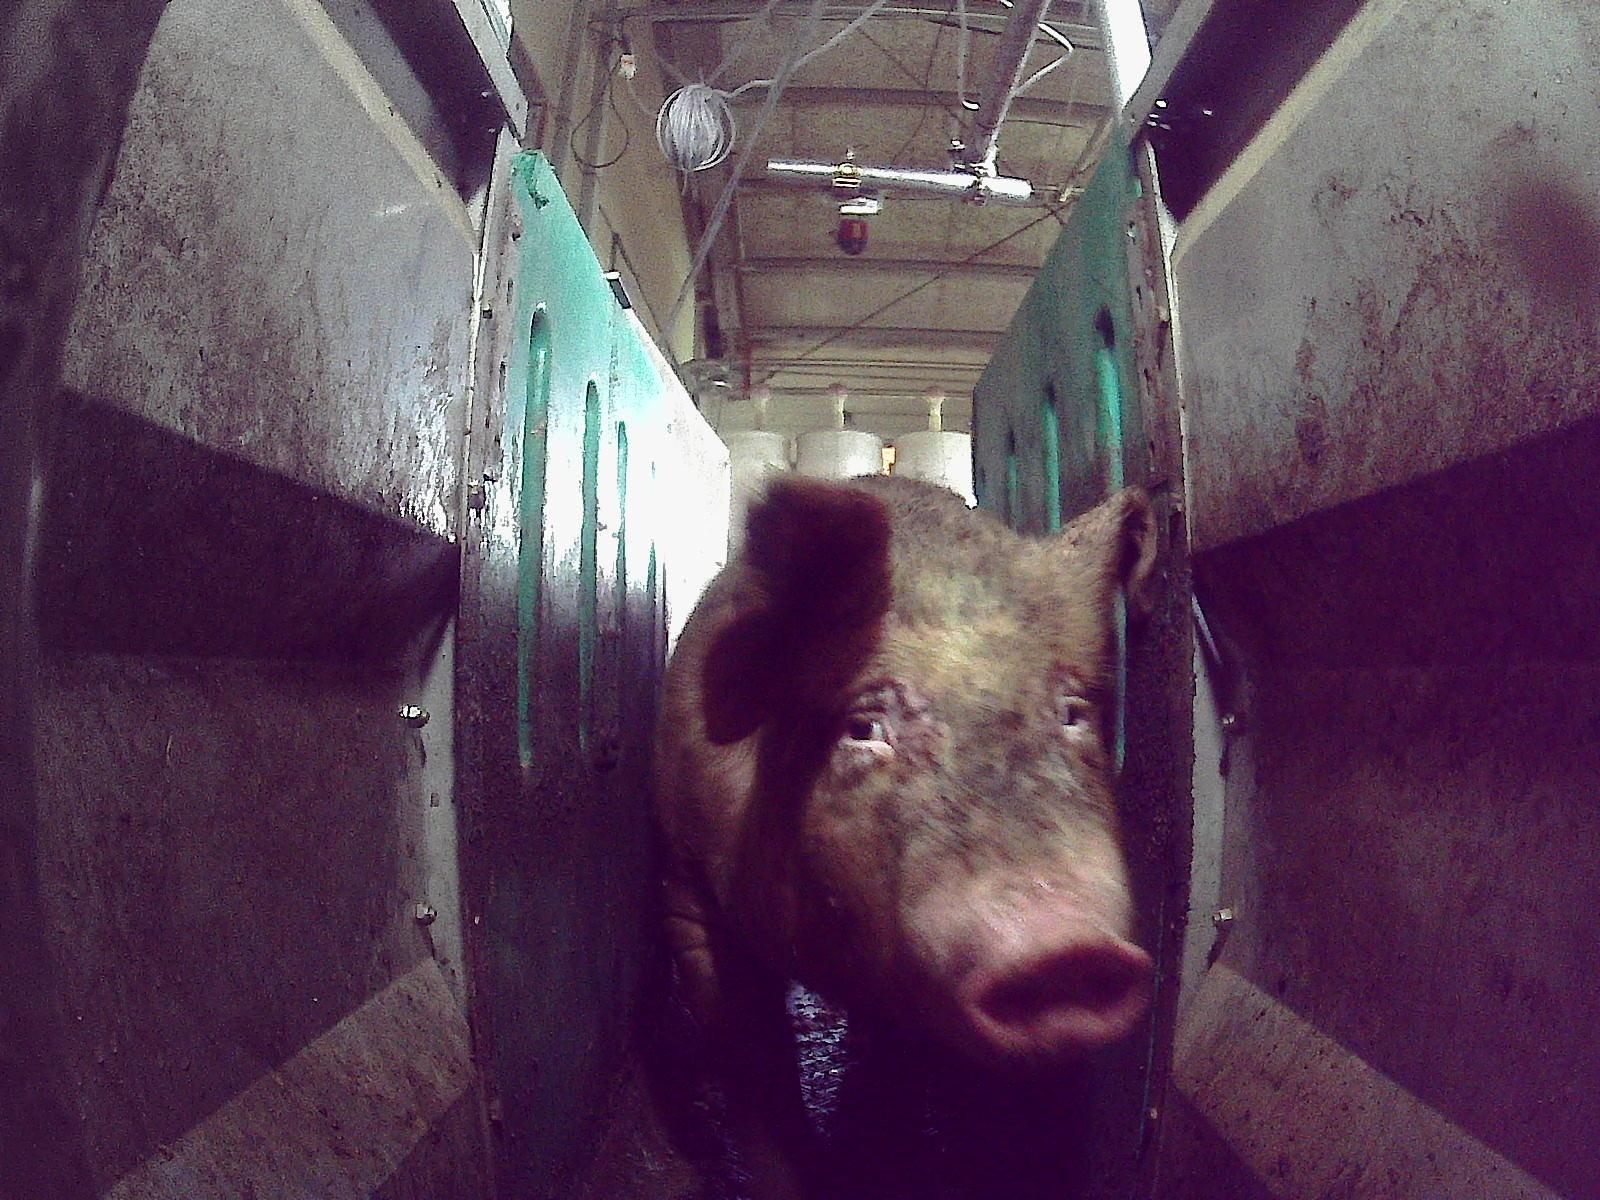Face: (794, 565, 1157, 1072)
